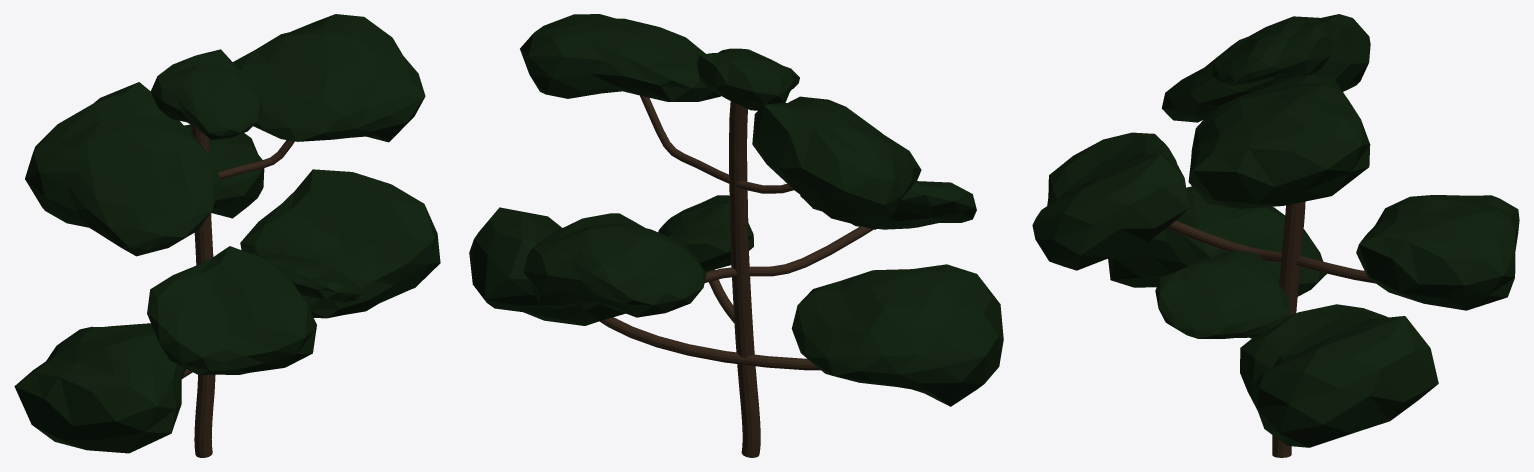
The model's file is SM_light_tree_06.fbx.
The picture shows the model from 3 angles, left to right: view 1: azimuth 30°, elevation 25°; view 2: azimuth 150°, elevation 25°; view 3: azimuth 270°, elevation 25°; orthographic projection. The views are drawn at different scales.
Parts seen in each view (by area): view 1: light_tree_06; view 2: light_tree_06; view 3: light_tree_06.
Boxes of the visible parts, x1=… form: light_tree_06: x1=14, y1=14, x2=440, y2=457; light_tree_06: x1=469, y1=14, x2=1003, y2=457; light_tree_06: x1=1032, y1=14, x2=1519, y2=457.
Size of the model in its own units: 67.49 by 55 by 56.
